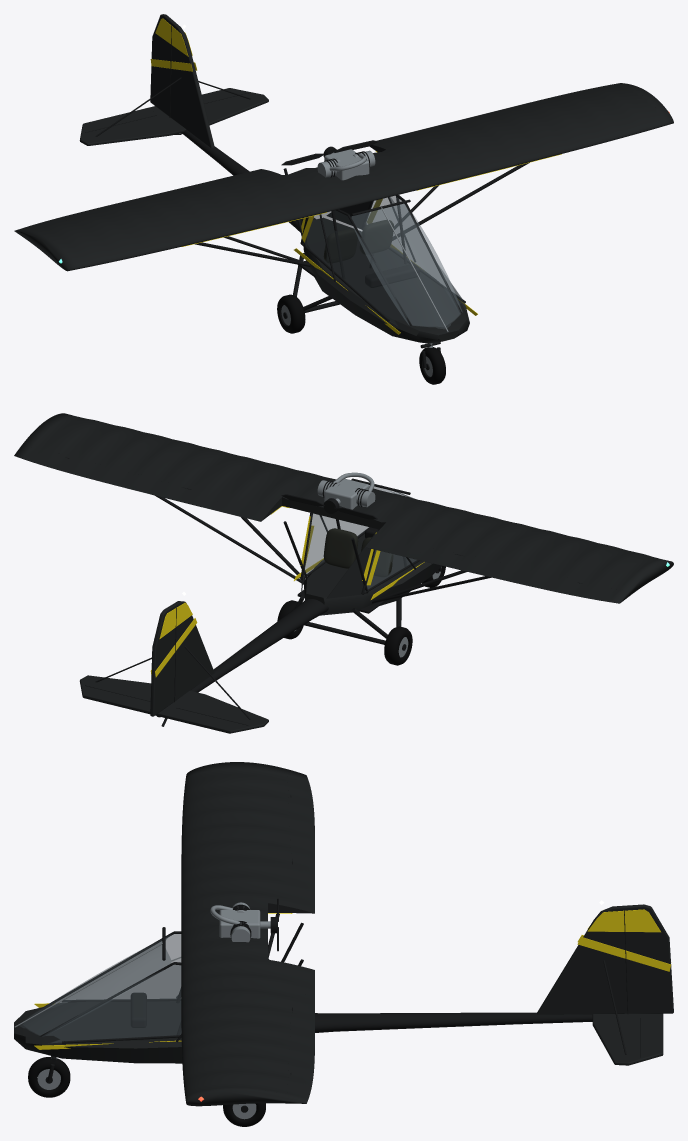
File: nightjar_rw12.glb
The picture shows the model from 3 angles, top to bottom: view 1: azimuth 30°, elevation 25°; view 2: azimuth 150°, elevation 25°; view 3: azimuth 270°, elevation 25°; orthographic projection. The views are drawn at different scales.
Parts seen in each view (by area): view 1: wing_R, wing_L, fuselage, canopy_glazing, vertical_stabilizer, horizontal_stabilizer, struts, rudder, engine_mount, aileron_L, aileron_R, elevator (+6 smaller); view 2: wing_R, wing_L, fuselage, aileron_L, aileron_R, vertical_stabilizer, horizontal_stabilizer, rudder, canopy_glazing, struts, elevator, engine_mount (+7 smaller); view 3: wing_L, wing_R, fuselage, canopy_glazing, vertical_stabilizer, rudder, aileron_R, aileron_L, horizontal_stabilizer, engine_mount, wingtip_L, wheel_nose (+4 smaller).
Boxes of the visible parts, bbox=[...] form: wing_R: bbox=[30, 167, 373, 269]; wing_L: bbox=[356, 86, 666, 200]; fuselage: bbox=[182, 129, 477, 343]; canopy_glazing: bbox=[303, 196, 465, 328]; vertical_stabilizer: bbox=[95, 21, 250, 147]; horizontal_stabilizer: bbox=[79, 92, 268, 145]; struts: bbox=[195, 162, 529, 279]; rudder: bbox=[150, 14, 174, 116]; engine_mount: bbox=[317, 149, 375, 180]; aileron_L: bbox=[415, 84, 620, 133]; aileron_R: bbox=[21, 181, 220, 230]; elevator: bbox=[81, 88, 250, 133]; wing_R: bbox=[334, 488, 662, 590]; wing_L: bbox=[30, 415, 335, 521]; fuselage: bbox=[157, 478, 441, 726]; aileron_L: bbox=[20, 446, 220, 509]; aileron_R: bbox=[415, 547, 620, 602]; vertical_stabilizer: bbox=[95, 601, 250, 719]; horizontal_stabilizer: bbox=[79, 675, 268, 728]; rudder: bbox=[150, 604, 175, 715]; canopy_glazing: bbox=[304, 486, 416, 590]; struts: bbox=[155, 495, 491, 603]; elevator: bbox=[80, 685, 252, 733]; engine_mount: bbox=[317, 472, 375, 509]; wing_L: bbox=[181, 928, 314, 1099]; wing_R: bbox=[181, 767, 314, 940]; fuselage: bbox=[14, 927, 592, 1063]; canopy_glazing: bbox=[20, 934, 181, 1043]; vertical_stabilizer: bbox=[537, 905, 673, 1054]; rudder: bbox=[626, 904, 673, 1012]; aileron_R: bbox=[287, 773, 314, 885]; aileron_L: bbox=[287, 991, 314, 1099]; horizontal_stabilizer: bbox=[592, 1013, 663, 1065]; engine_mount: bbox=[210, 902, 270, 942]; wingtip_L: bbox=[185, 1088, 307, 1106]; wheel_nose: bbox=[28, 1057, 70, 1097].
Bounding box in the file's own units: 8.68 × 2.4 × 7.3.
